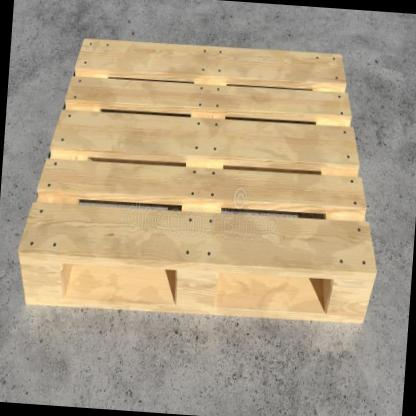BoxFace: (17, 37, 377, 329)
